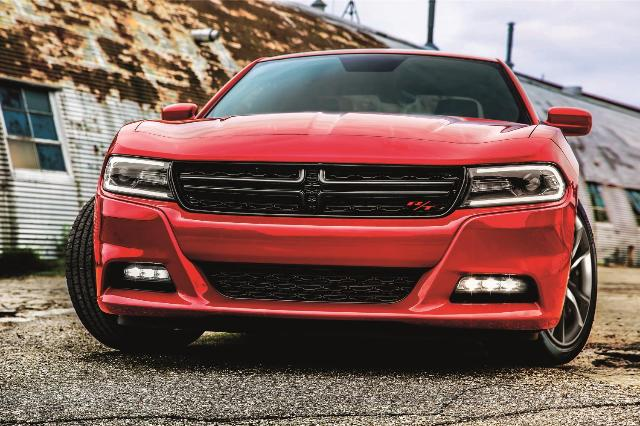dodge: (64, 48, 598, 364)
